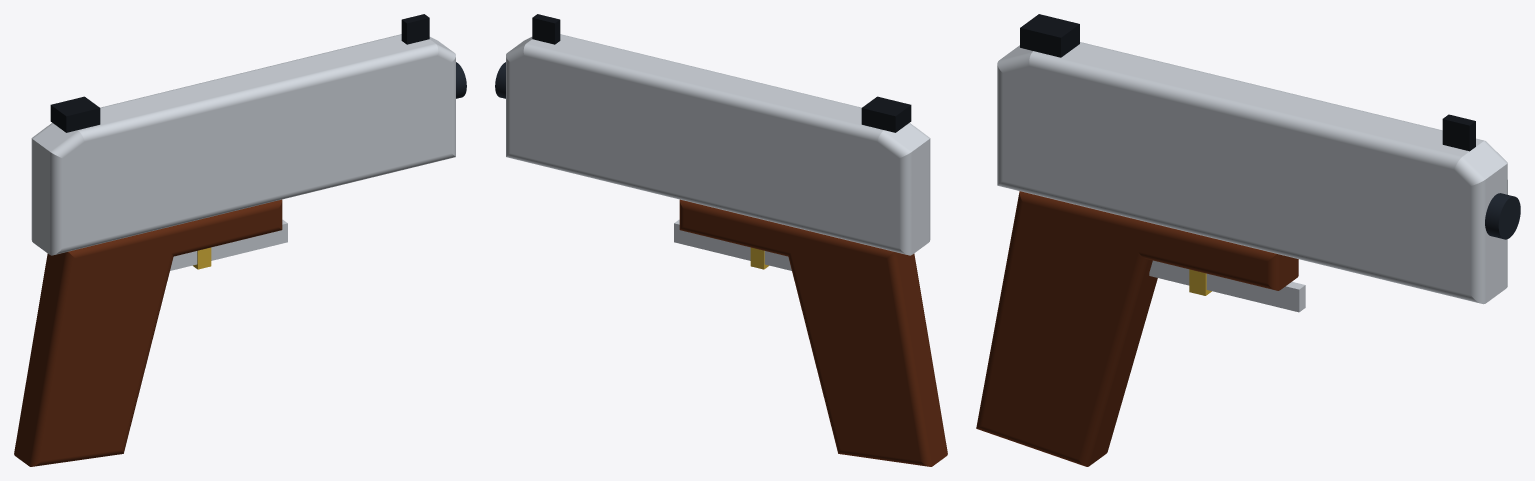
File: pistol.glb
3 renders of one model, left to right at view 1: azimuth 30°, elevation 25°; view 2: azimuth 150°, elevation 25°; view 3: azimuth 330°, elevation 25°, orthographic. The views are drawn at different scales.
Parts seen in each view (by area): view 1: GunSlide, GunGrip, GunGuard, GunSightR, GunSight; view 2: GunSlide, GunGrip, GunGuard, GunSightR, GunSight; view 3: GunSlide, GunGrip, GunGuard, GunSightR, GunMuzzle, GunSight.
Boxes of the visible parts, box(x1,y1,x2,y2) form: GunSlide: box(31, 34, 455, 255); GunGrip: box(14, 199, 282, 466); GunGuard: box(170, 219, 287, 270); GunSightR: box(50, 96, 100, 132); GunSight: box(401, 14, 429, 44); GunSlide: box(506, 34, 930, 255); GunGrip: box(679, 199, 947, 466); GunGuard: box(674, 219, 791, 270); GunSightR: box(861, 96, 911, 132); GunSight: box(532, 14, 560, 44); GunSlide: box(997, 42, 1507, 304); GunGrip: box(976, 191, 1298, 466); GunGuard: box(1149, 260, 1305, 312); GunSightR: box(1020, 14, 1079, 57); GunMuzzle: box(1485, 193, 1520, 239); GunSight: box(1442, 114, 1475, 151).
Size of the model in its own units: 0.384 by 0.3 by 0.04.
